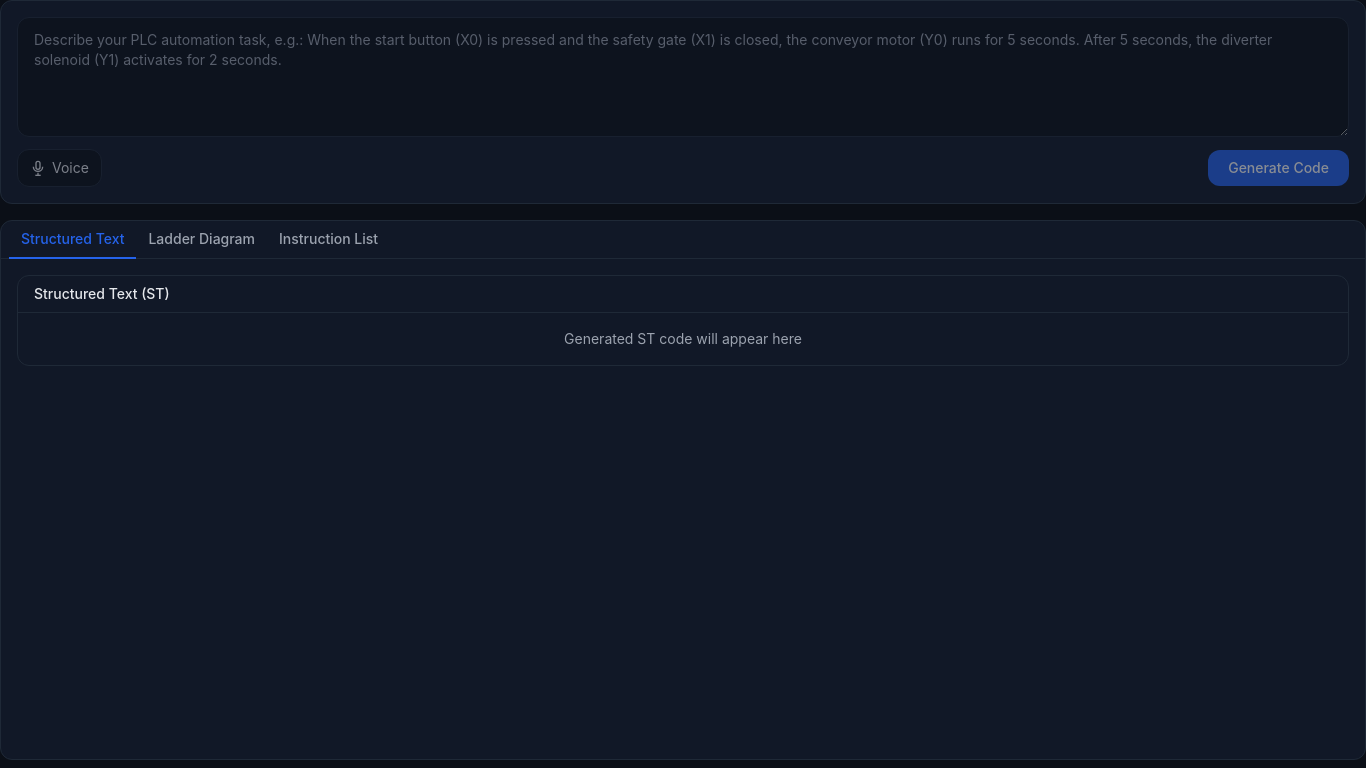
it: CodeGenerationPanel — Tabs + Maximize modal (M10.2.1) › Tab bar › keeps every panel mounted across tab switches (no remount)
Expected: the panel with test id "tabpanel-st" is shown, top-left (17, 275), bottom-right (1349, 366)
Click the tab with test id "tab-ld": (202, 240) top-left (136, 221), bottom-right (267, 259)
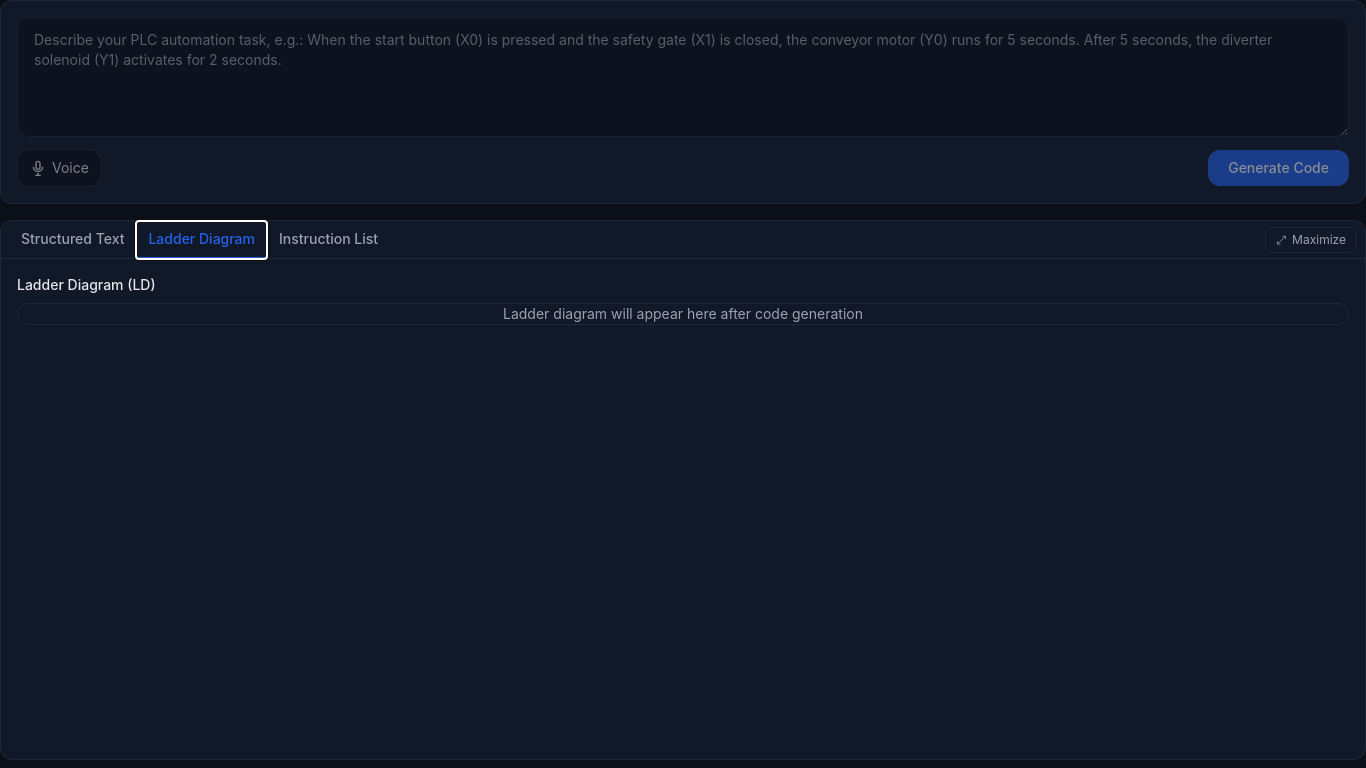
Expected: the panel with test id "tabpanel-ld" is shown, top-left (17, 275), bottom-right (1349, 325)
